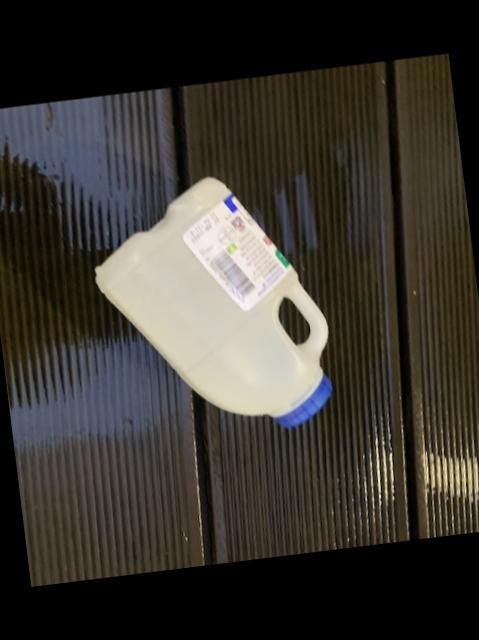plastic: (97, 176, 332, 426)
